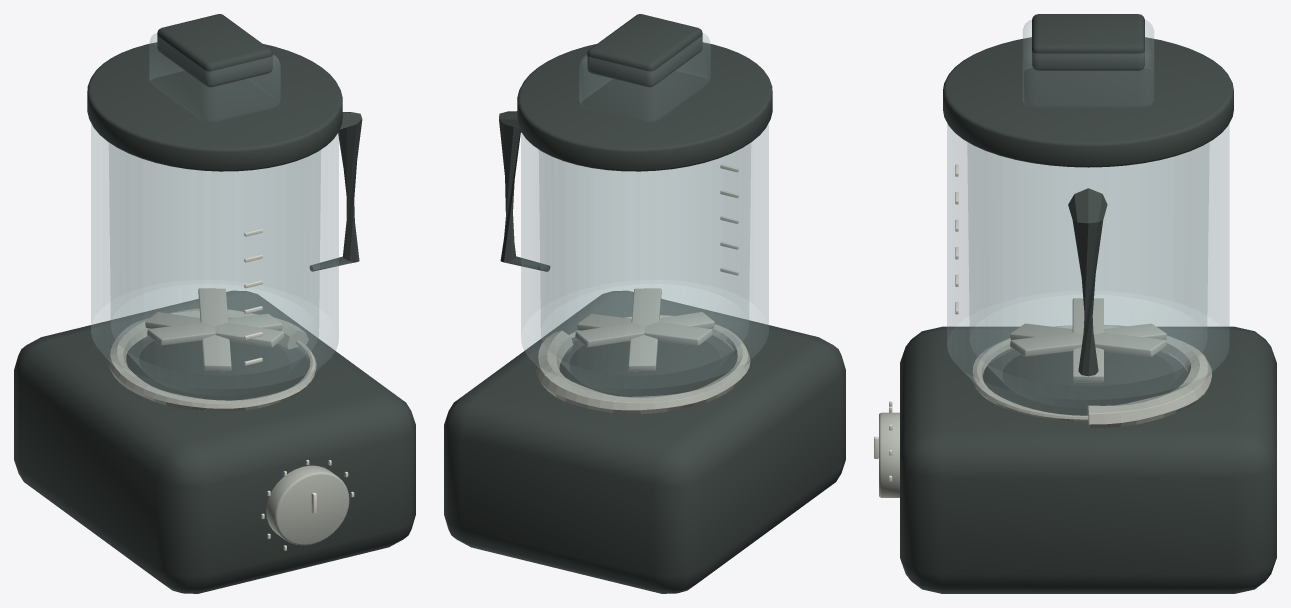
The model's file is food-processor.glb.
3 renders of one model, left to right at view 1: azimuth 30°, elevation 25°; view 2: azimuth 150°, elevation 25°; view 3: azimuth 270°, elevation 25°, orthographic. The views are drawn at different scales.
Visible parts, largest first — view 1: food-processor; view 2: food-processor; view 3: food-processor.
Boxes of the visible parts, left/top/right/bottom form: food-processor: left=14, top=14, right=415, bottom=593; food-processor: left=444, top=14, right=845, bottom=593; food-processor: left=874, top=14, right=1276, bottom=593.
Size of the model in its own units: 0.25 by 0.42 by 0.3.
